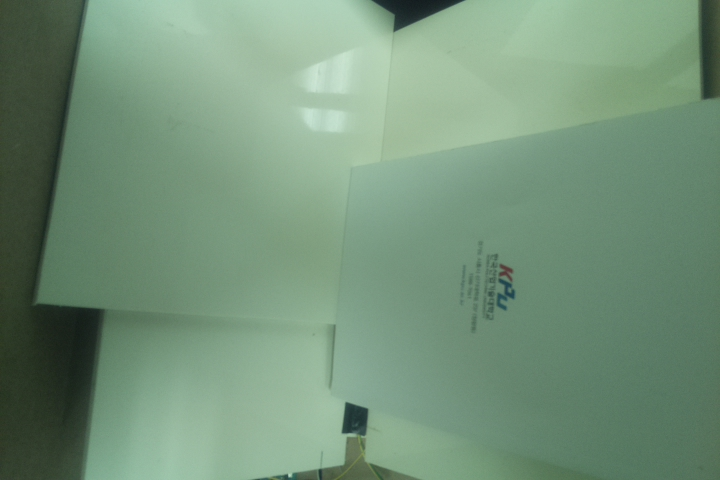book: (328, 94, 720, 479)
